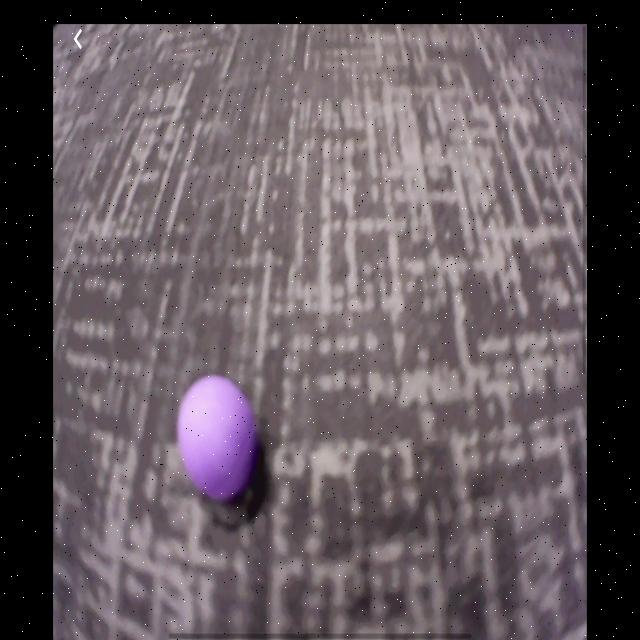ball: (178, 377, 252, 500)
